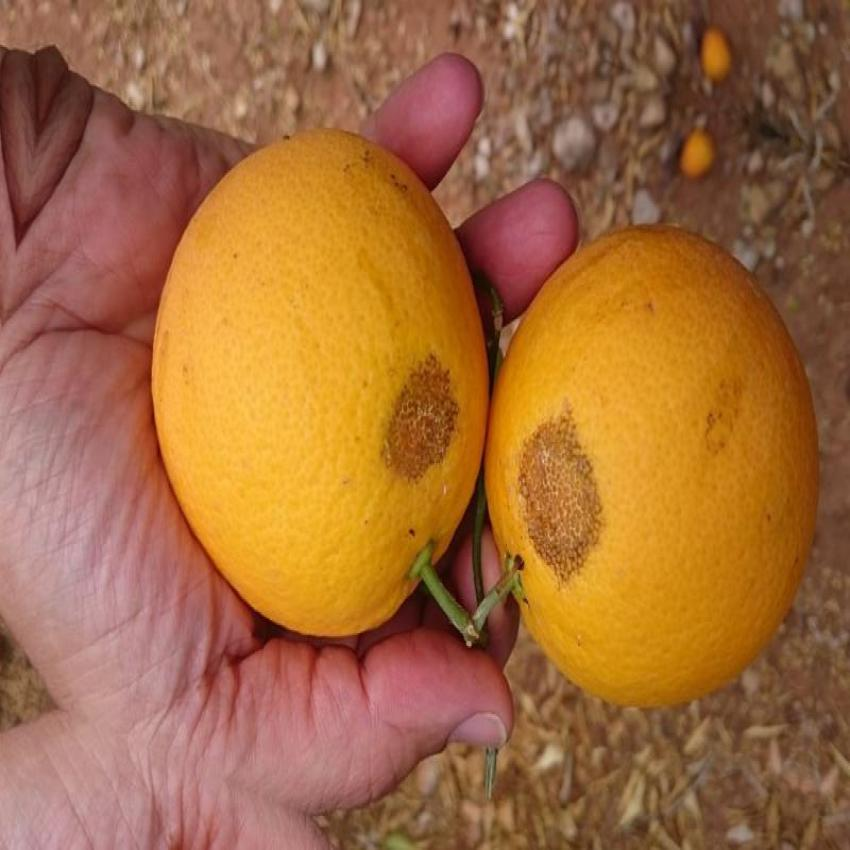Mal estado: (480, 193, 832, 741), (150, 120, 498, 660)
